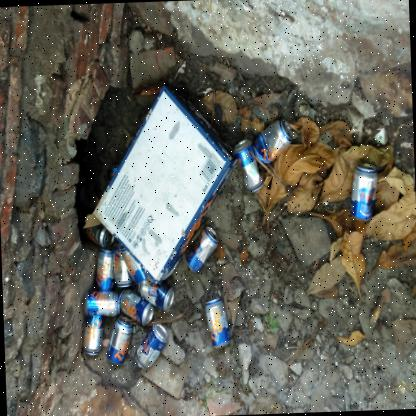Corrugated carton: (84, 86, 238, 284)
Drink can: (253, 118, 293, 165), (350, 164, 378, 222), (186, 226, 219, 274), (234, 140, 264, 192), (136, 324, 168, 369), (205, 298, 231, 349), (120, 288, 154, 326), (139, 275, 174, 311), (107, 317, 133, 365), (121, 248, 148, 284), (95, 247, 115, 291), (85, 291, 120, 316), (83, 316, 105, 355), (114, 243, 133, 287), (89, 226, 114, 248)
Pop tab: (285, 124, 291, 133), (209, 232, 214, 236), (123, 318, 127, 323), (255, 190, 260, 193)
